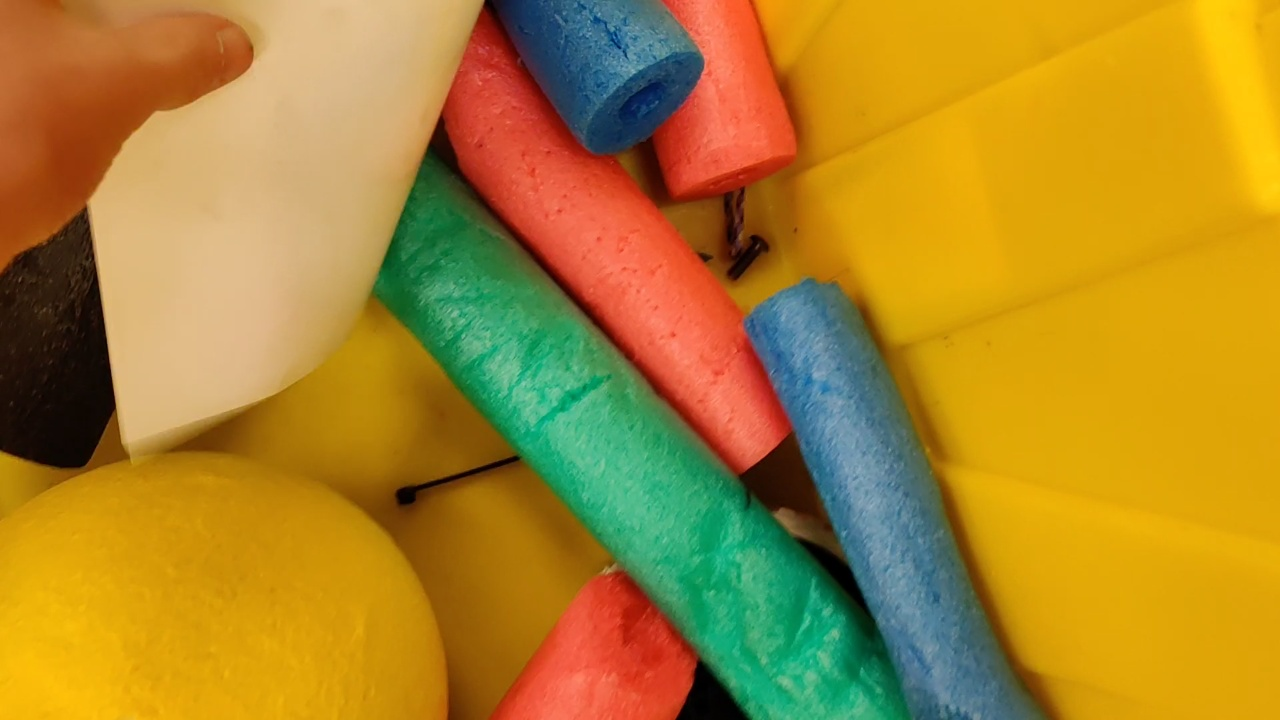Ball: (1, 451, 451, 717)
